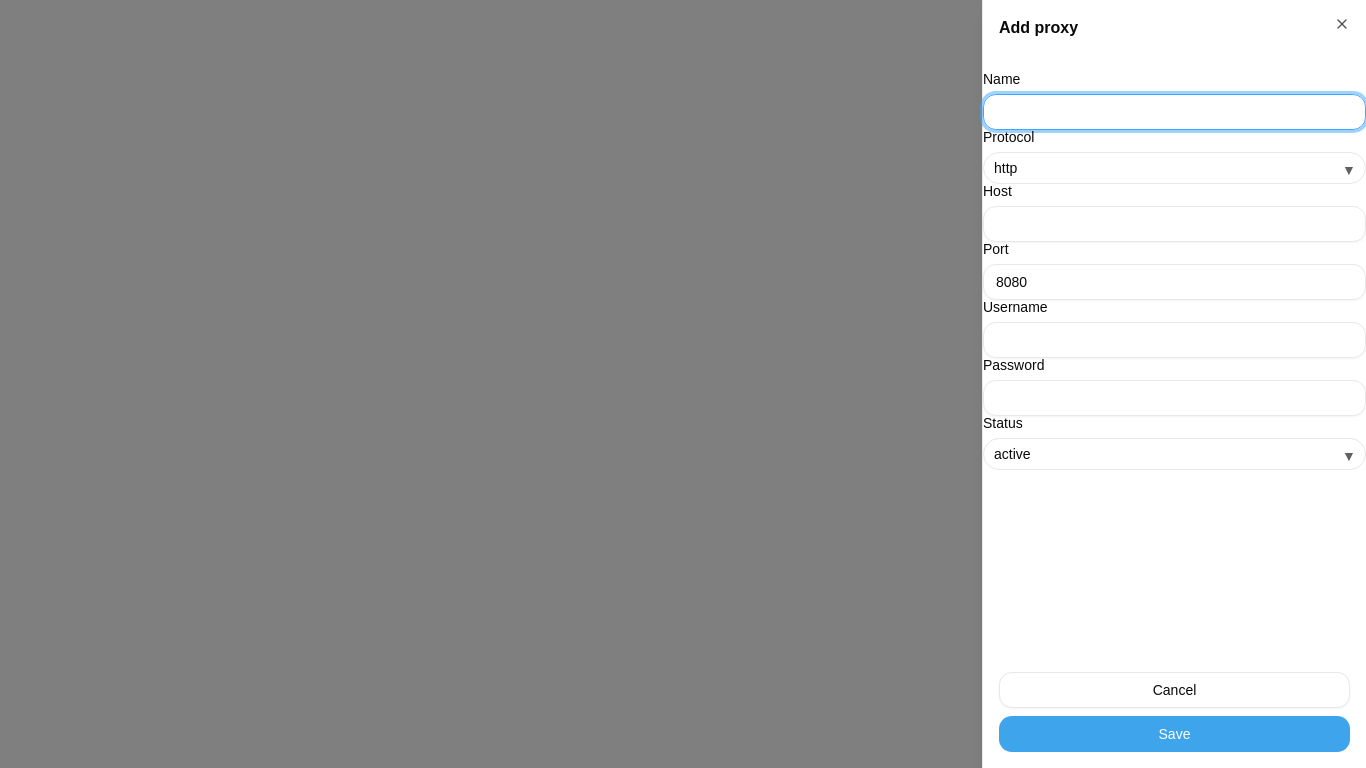
Test: Proxy mutate drawer shadowsocks › lists ss protocol option
Expected: the text "Protocol" is shown, [983,129,1034,145]
Click the dropdown named "Protocol" at (1006, 168), box [983,152,1365,184]
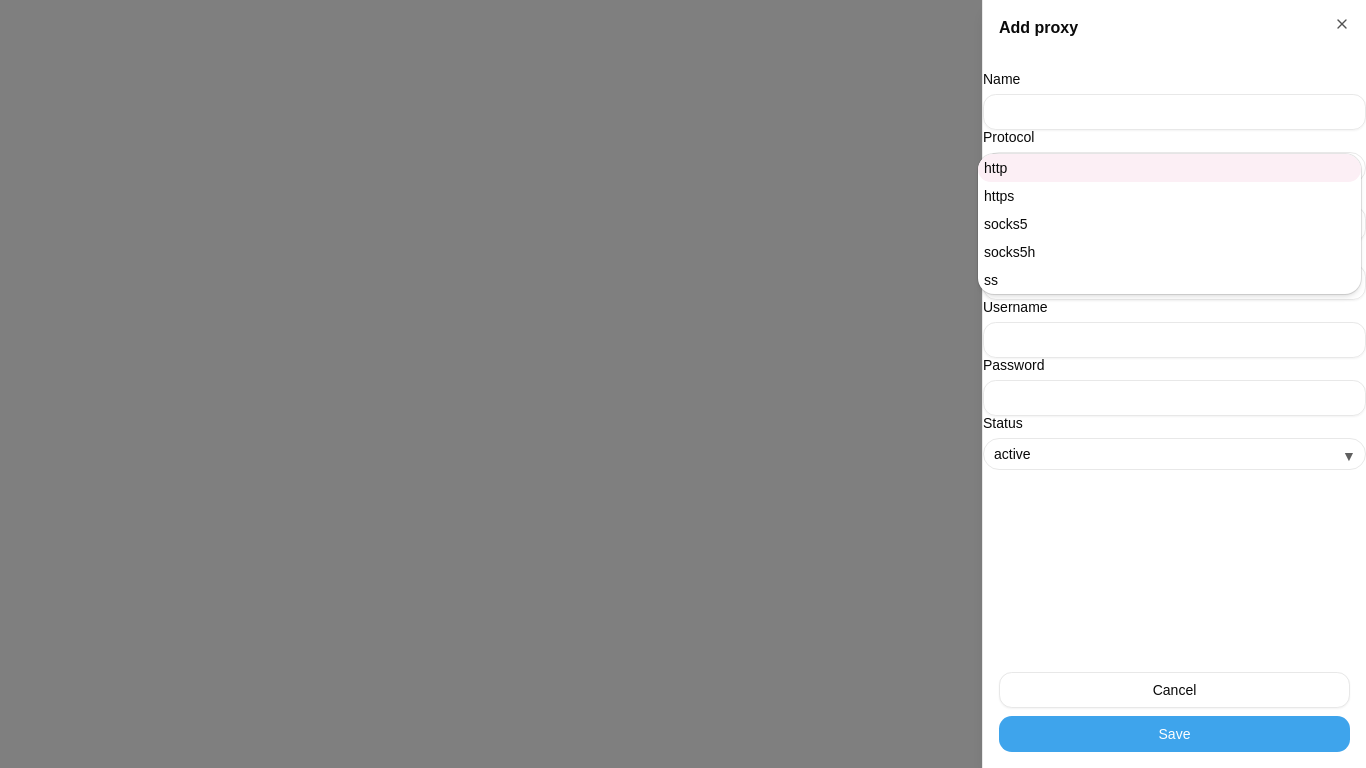
Result: the option "ss" is shown at [984,272,998,288]
